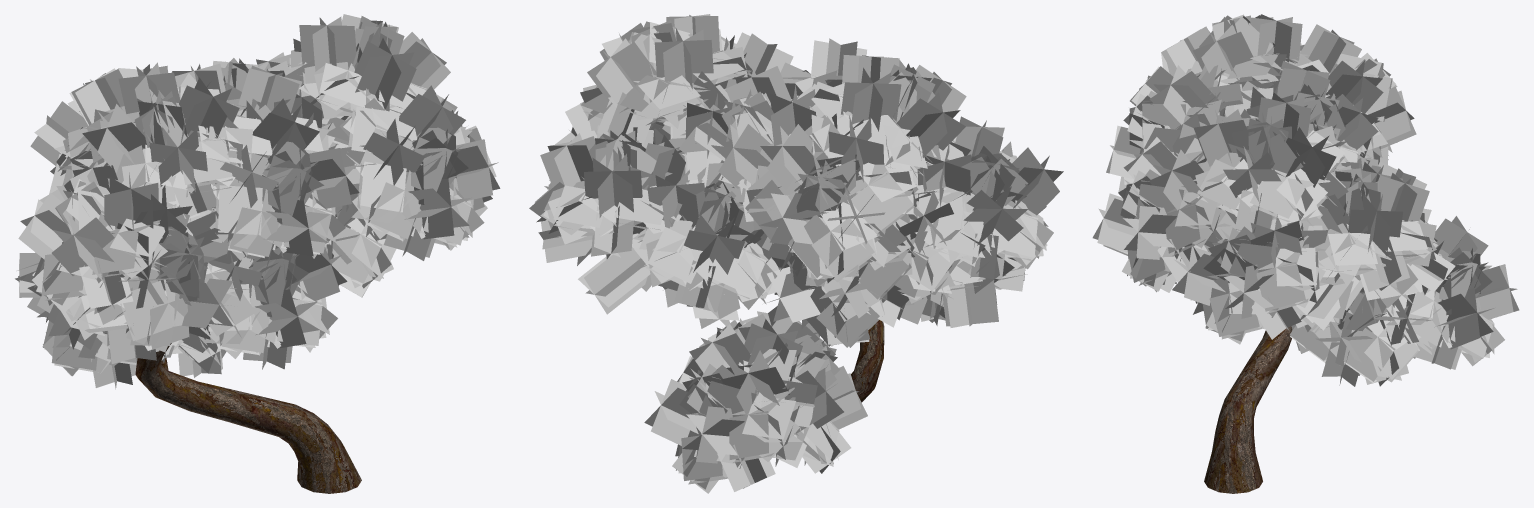
Rendered from SM_tree_c.fbx.
The picture shows the model from 3 angles, left to right: view 1: azimuth 30°, elevation 25°; view 2: azimuth 150°, elevation 25°; view 3: azimuth 270°, elevation 25°; orthographic projection. The views are drawn at different scales.
Visible parts, largest first — view 1: SM_tree_c_LOD0; view 2: SM_tree_c_LOD0; view 3: SM_tree_c_LOD0.
Part boxes in pixels (x1=…): SM_tree_c_LOD0: x1=15, y1=14, x2=500, y2=493; SM_tree_c_LOD0: x1=529, y1=14, x2=1063, y2=493; SM_tree_c_LOD0: x1=1092, y1=14, x2=1519, y2=493.
Size of what is drawn, in the model's own units: 1375 by 1191 by 1170.
